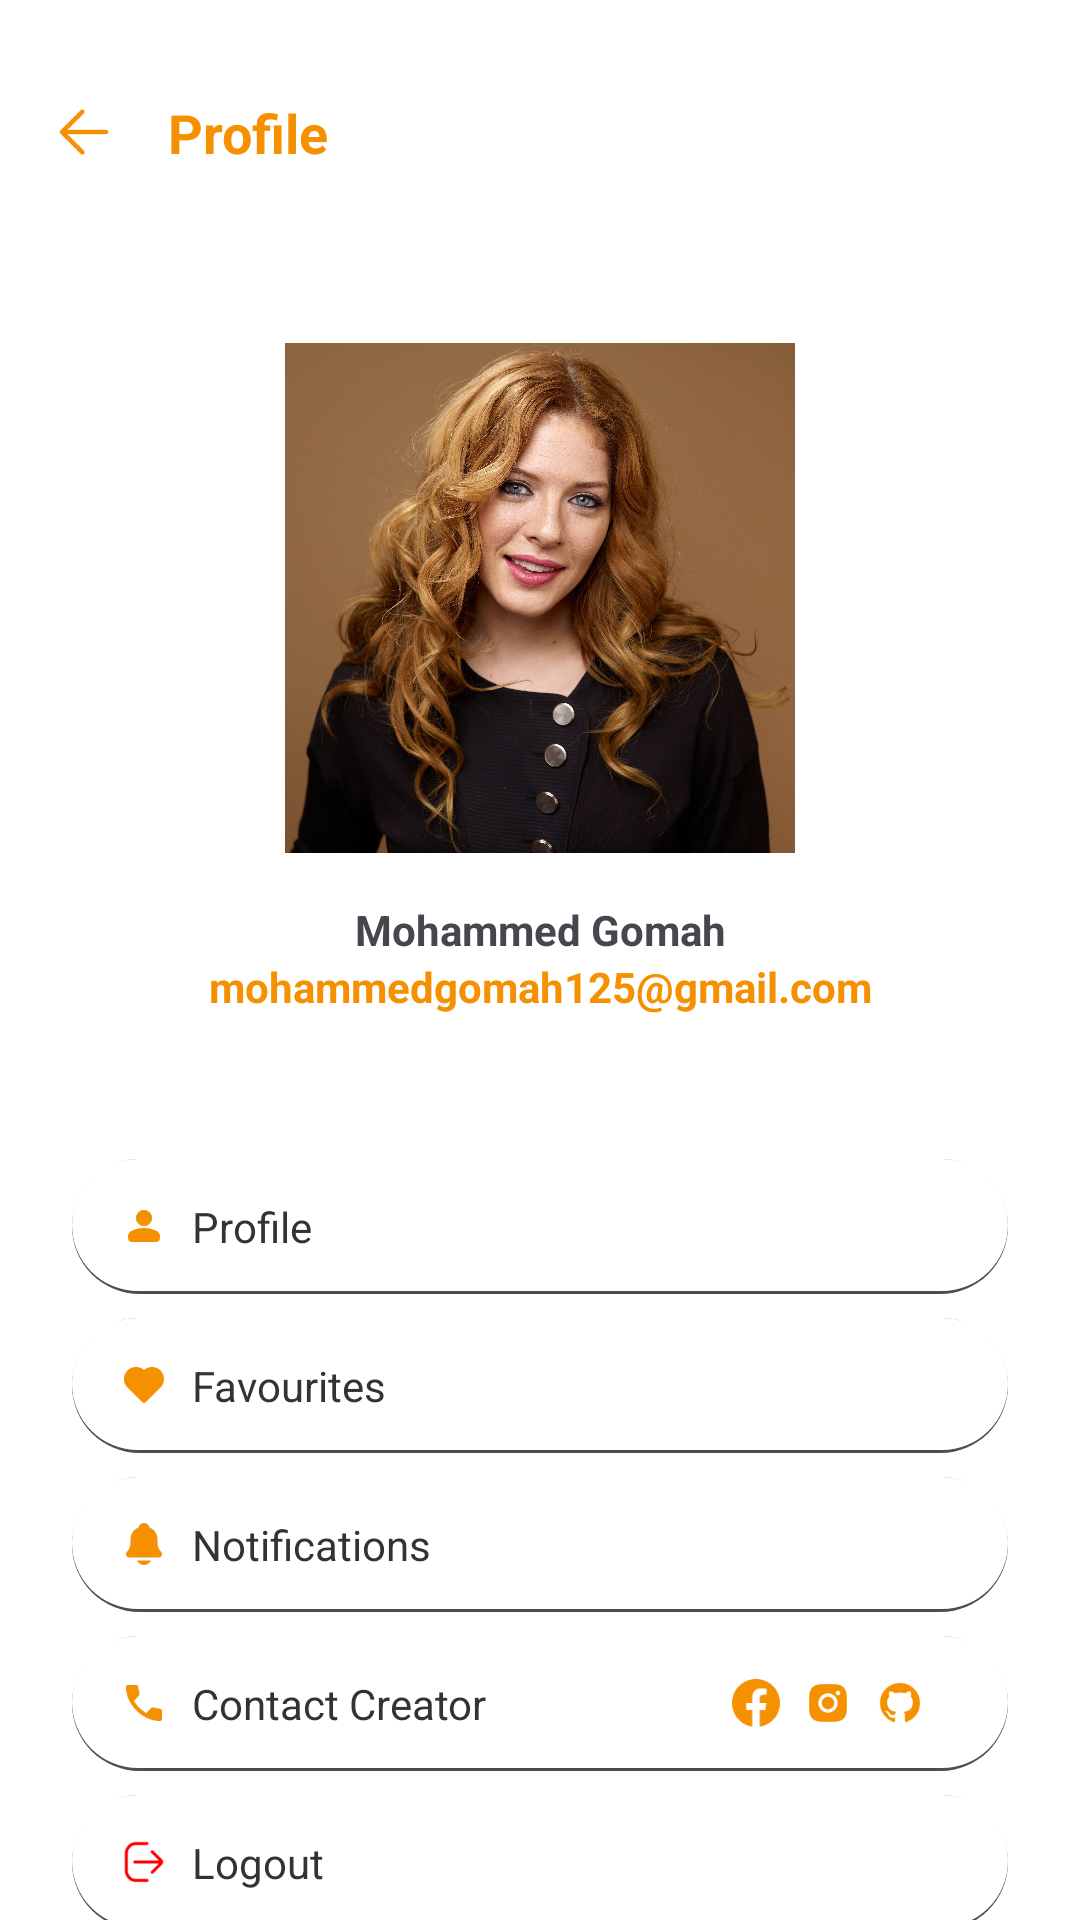

Icon click points for this 1080*1920 phone screenshot, format (x=x, y=y):
back arrow: (x=84, y=132)
person: (x=144, y=1226)
